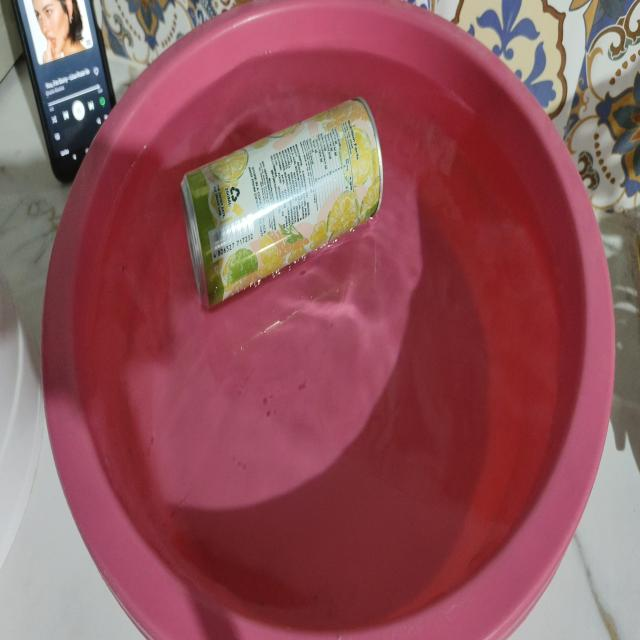Aluminum Can: (156, 73, 408, 344)
